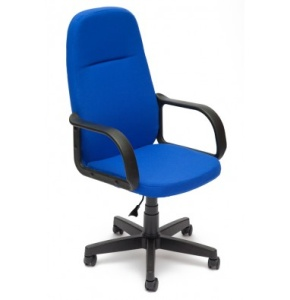chair: (65, 6, 228, 293)
